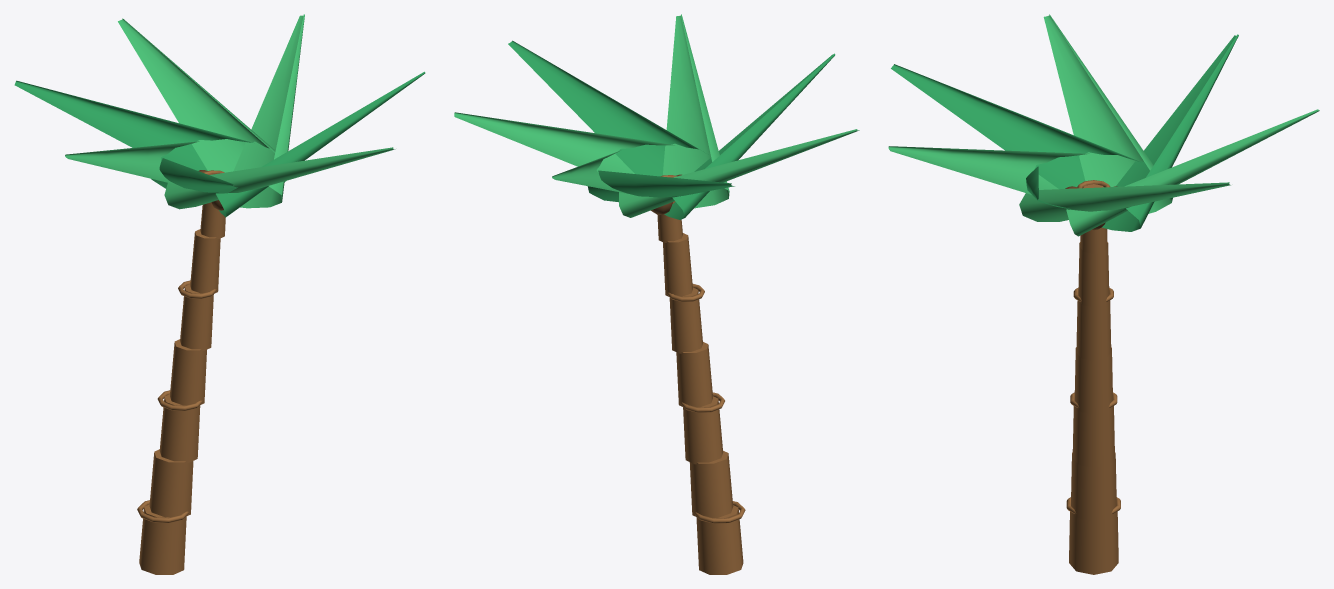
Rendered from tree.glb.
The picture shows the model from 3 angles, left to right: view 1: azimuth 30°, elevation 25°; view 2: azimuth 150°, elevation 25°; view 3: azimuth 270°, elevation 25°; orthographic projection. The views are drawn at different scales.
Visible parts, largest first — view 1: PalmTree; view 2: PalmTree; view 3: PalmTree.
Part boxes in pixels (x1,y1,x2,y2): PalmTree: [14, 14, 425, 574]; PalmTree: [454, 14, 859, 574]; PalmTree: [888, 14, 1319, 574].
Size of the model in its own units: 2.83 by 3.46 by 2.76.
